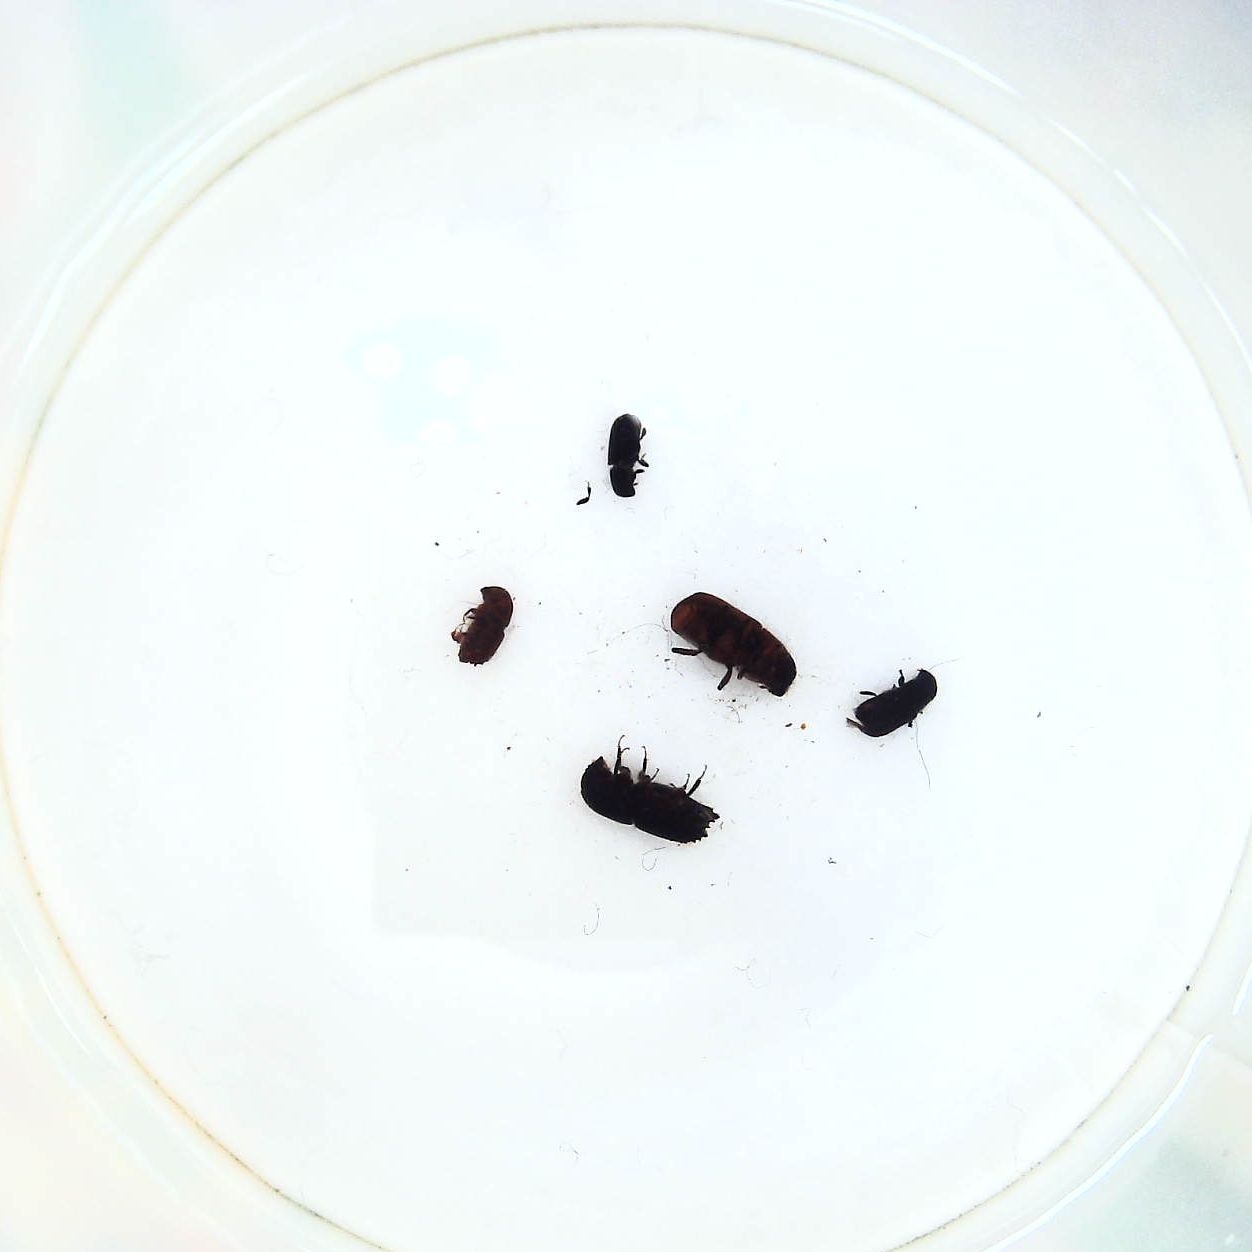Boerner: (572, 740, 726, 847)
Leconte: (670, 582, 804, 707)
armandi: (838, 663, 947, 741)
coleoptera: (601, 407, 655, 502)
linnaeus: (447, 580, 518, 673)
